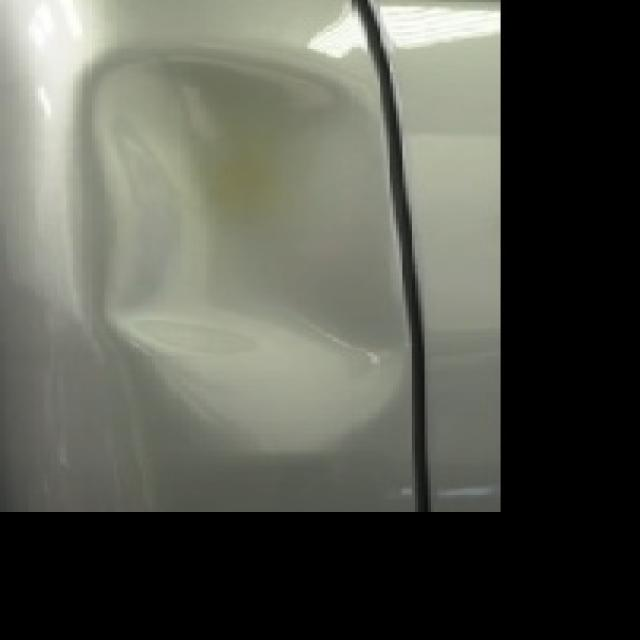dent: (74, 46, 420, 462)
